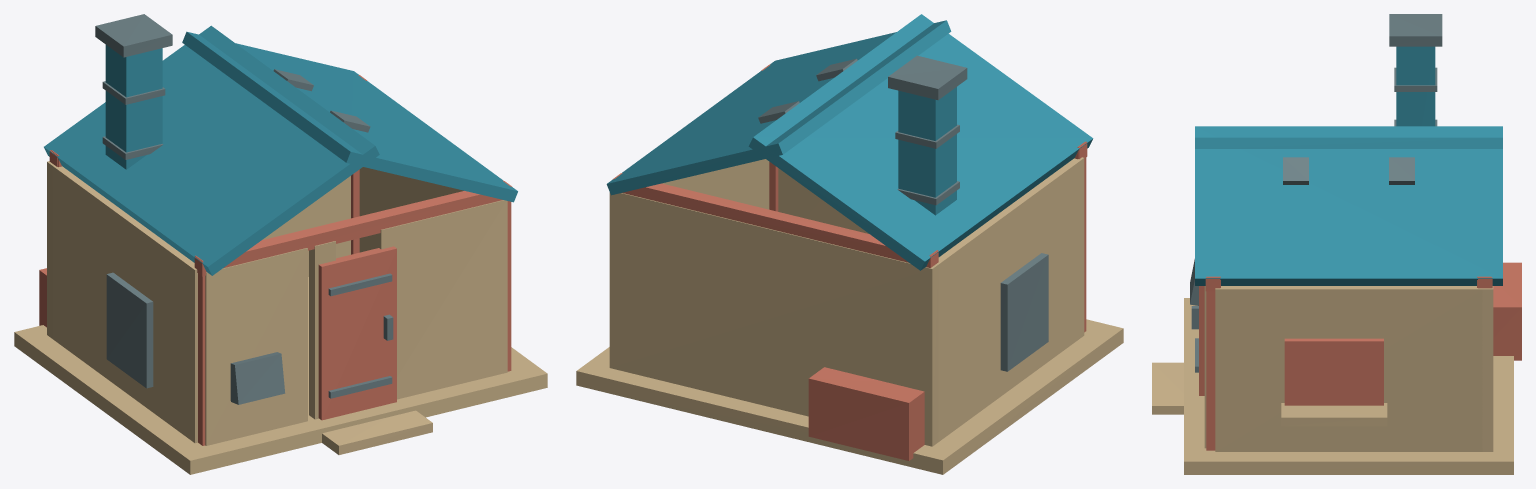
The model's file is bakery.source.glb.
3 views of the same model, side by side, from view 1: azimuth 30°, elevation 25°; view 2: azimuth 150°, elevation 25°; view 3: azimuth 270°, elevation 25° (orthographic). The views are drawn at different scales.
Visible parts, largest first — view 1: bakery-left-terracotta-roof-mesh, bakery-left-plaster-wall-mesh, bakery-front-right-plaster-wall-mesh, bakery-front-left-plaster-wall-mesh, bakery-right-terracotta-roof-mesh, bakery-thin-stone-curb-mesh, bakery-timber-service-door-mesh, bakery-slim-brick-chimney-mesh, bakery-front-top-beam-mesh, bakery-iron-oven-face-mesh, bakery-rear-plaster-wall-mesh, bakery-right-plaster-wall-mesh (+9 smaller); view 2: bakery-rear-plaster-wall-mesh, bakery-left-terracotta-roof-mesh, bakery-left-plaster-wall-mesh, bakery-right-terracotta-roof-mesh, bakery-thin-stone-curb-mesh, bakery-fuel-rack-mesh, bakery-slim-brick-chimney-mesh, bakery-rear-top-beam-mesh, bakery-iron-oven-face-mesh, bakery-right-plaster-wall-mesh, bakery-chimney-cap-mesh, bakery-front-right-plaster-wall-mesh (+1 smaller); view 3: bakery-right-terracotta-roof-mesh, bakery-right-plaster-wall-mesh, bakery-thin-stone-curb-mesh, bakery-product-output-shutter-mesh, bakery-left-terracotta-roof-mesh, bakery-slim-brick-chimney-mesh, bakery-fuel-rack-mesh, bakery-output-counter-mesh, bakery-rear-plaster-wall-mesh, bakery-chimney-cap-mesh, bakery-service-step-mesh, bakery-front-right-timber-post-mesh (+5 smaller).
Part boxes in pixels (<box>): bakery-left-terracotta-roof-mesh: <box>44,25,379,275</box>; bakery-left-plaster-wall-mesh: <box>52,165,197,443</box>; bakery-front-right-plaster-wall-mesh: <box>375,200,507,399</box>; bakery-front-left-plaster-wall-mesh: <box>205,248,307,445</box>; bakery-right-terracotta-roof-mesh: <box>182,31,517,202</box>; bakery-thin-stone-curb-mesh: <box>14,277,547,474</box>; bakery-timber-service-door-mesh: <box>318,246,396,420</box>; bakery-slim-brick-chimney-mesh: <box>105,45,162,169</box>; bakery-front-top-beam-mesh: <box>194,181,511,276</box>; bakery-iron-oven-face-mesh: <box>106,272,153,388</box>; bakery-rear-plaster-wall-mesh: <box>47,161,350,338</box>; bakery-right-plaster-wall-mesh: <box>359,167,463,252</box>; bakery-rear-plaster-wall-mesh: <box>609,192,938,446</box>; bakery-left-terracotta-roof-mesh: <box>748,14,1093,270</box>; bakery-left-plaster-wall-mesh: <box>937,157,1084,441</box>; bakery-right-terracotta-roof-mesh: <box>606,20,951,195</box>; bakery-thin-stone-curb-mesh: <box>576,319,1123,474</box>; bakery-fuel-rack-mesh: <box>808,367,924,460</box>; bakery-slim-brick-chimney-mesh: <box>898,87,956,215</box>; bakery-rear-top-beam-mesh: <box>612,173,938,267</box>; bakery-iron-oven-face-mesh: <box>1000,253,1048,371</box>; bakery-right-plaster-wall-mesh: <box>662,159,769,209</box>; bakery-chimney-cap-mesh: <box>888,55,967,100</box>; bakery-front-right-plaster-wall-mesh: <box>778,168,868,233</box>; bakery-right-terracotta-roof-mesh: <box>1195,126,1502,285</box>; bakery-right-plaster-wall-mesh: <box>1215,286,1482,451</box>; bakery-thin-stone-curb-mesh: <box>1184,298,1513,474</box>; bakery-product-output-shutter-mesh: <box>1284,338,1383,405</box>; bakery-left-terracotta-roof-mesh: <box>1195,137,1502,148</box>; bakery-slim-brick-chimney-mesh: <box>1396,46,1435,126</box>; bakery-fuel-rack-mesh: <box>1493,262,1521,360</box>; bakery-output-counter-mesh: <box>1281,403,1387,426</box>; bakery-rear-plaster-wall-mesh: <box>1482,286,1493,451</box>; bakery-chimney-cap-mesh: <box>1389,14,1442,46</box>; bakery-service-step-mesh: <box>1152,362,1183,414</box>; bakery-front-right-timber-post-mesh: <box>1206,276,1220,450</box>.
Bounding box in the file's own units: 4.88 × 4.29 × 4.54.
